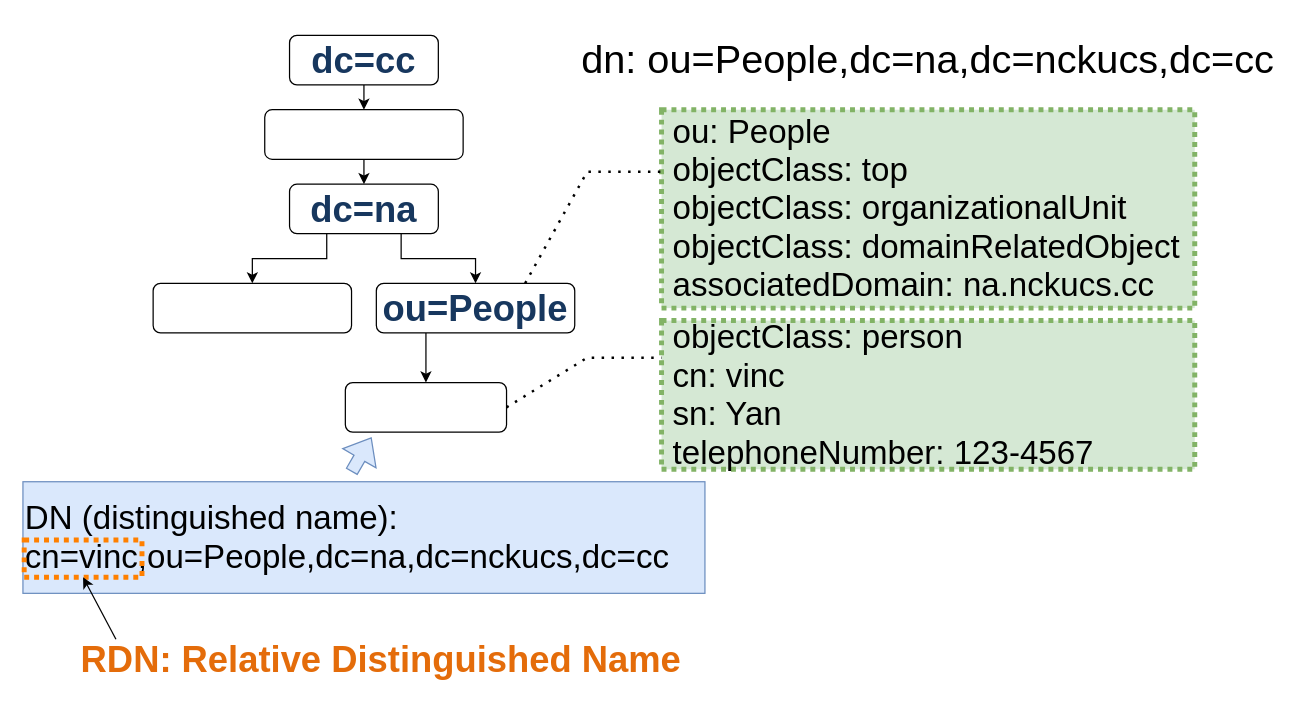
This 1302x713 diagram has some shape labels left out. Here are the shapes that lost their labels. From the top down, the centre of each, then its label:
(363,133): d c= nckucs
(252,307): o u = Group
(425,406): cn = vinc
